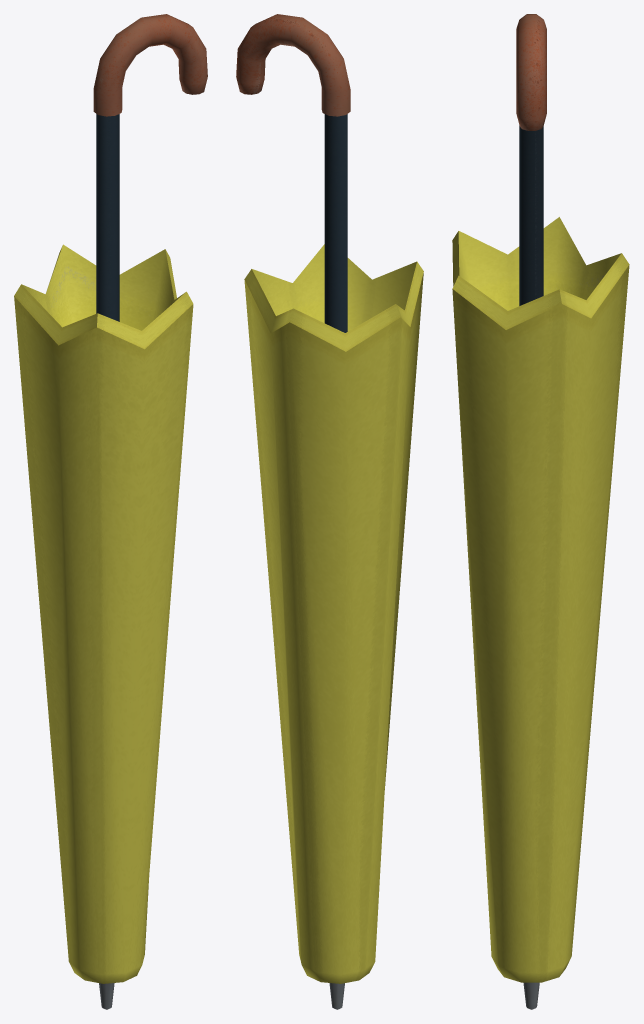
Rendered from SM_Umbrella_B.fbx.
The picture shows the model from 3 angles, left to right: view 1: azimuth 30°, elevation 25°; view 2: azimuth 150°, elevation 25°; view 3: azimuth 270°, elevation 25°; orthographic projection. The views are drawn at different scales.
Parts seen in each view (by area): view 1: SM_Umbrella_B; view 2: SM_Umbrella_B; view 3: SM_Umbrella_B.
Boxes of the visible parts, left/top/right/bottom form: SM_Umbrella_B: left=14, top=14, right=207, bottom=1009; SM_Umbrella_B: left=236, top=14, right=423, bottom=1009; SM_Umbrella_B: left=452, top=14, right=629, bottom=1009.
Size of the model in its own units: 0.1544 by 0.8184 by 0.1296.
Materials: 1 (1 with a texture image).
